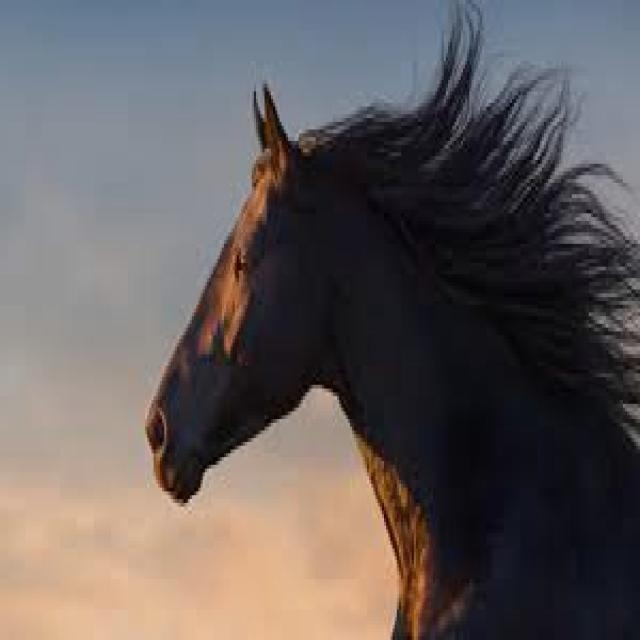horse: (147, 4, 640, 636)
